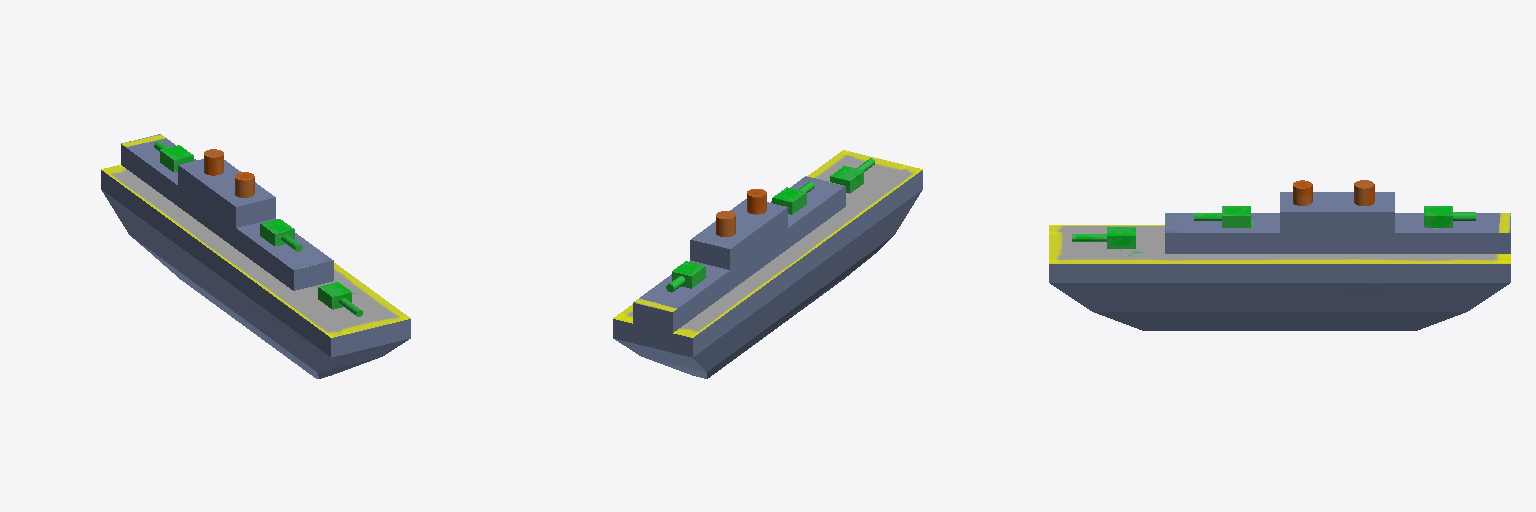
3 views of the same model, side by side, from view 1: azimuth 30°, elevation 25°; view 2: azimuth 150°, elevation 25°; view 3: azimuth 270°, elevation 25° (orthographic).
Visible parts, largest first — view 1: Object.1; view 2: Object.1; view 3: Object.1.
Boxes of the visible parts, <box> form: Object.1: <box>101,134,410,378</box>; Object.1: <box>613,150,922,378</box>; Object.1: <box>1049,180,1510,330</box>.
Bounding box in the file's own units: 20 × 34.28 × 99.98.
1 materials, 1 textured.